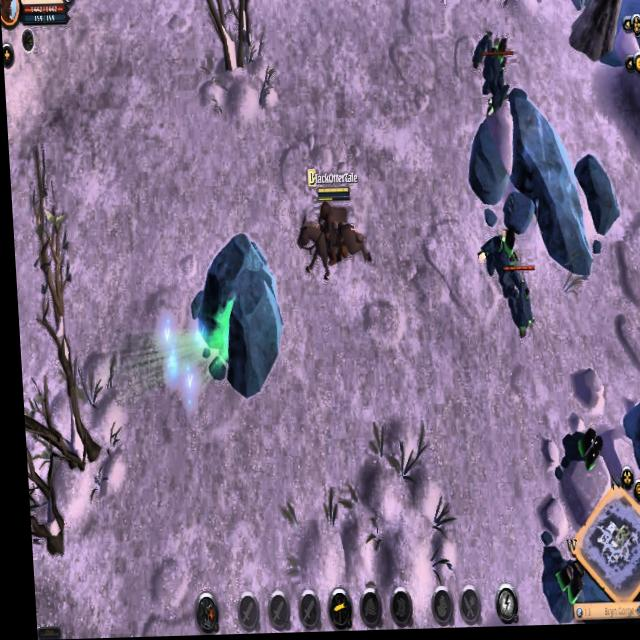tinore: (532, 544, 579, 620), (553, 426, 601, 482)
